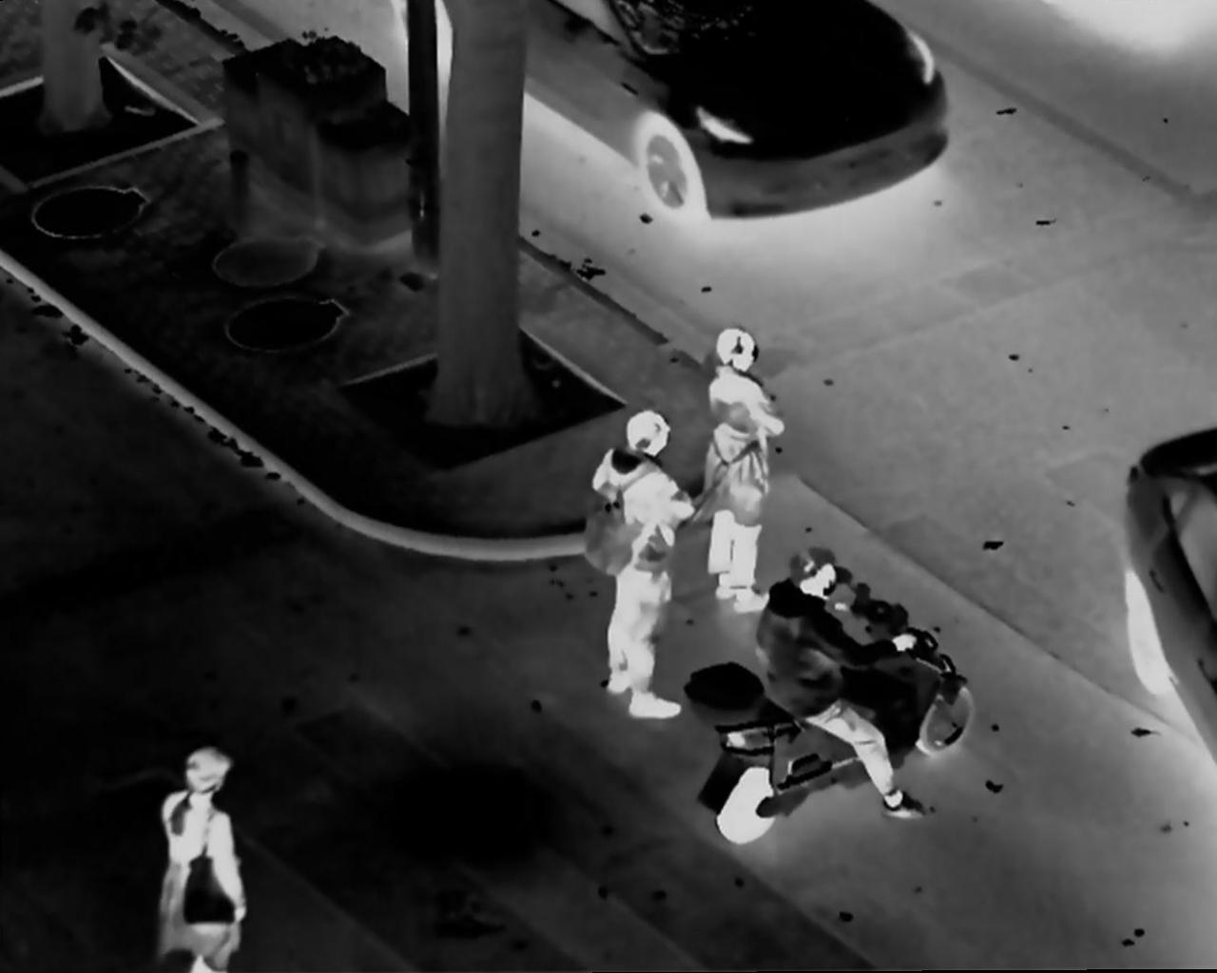person: (755, 545, 937, 825), (581, 409, 687, 721), (697, 324, 785, 612), (159, 743, 259, 973)
